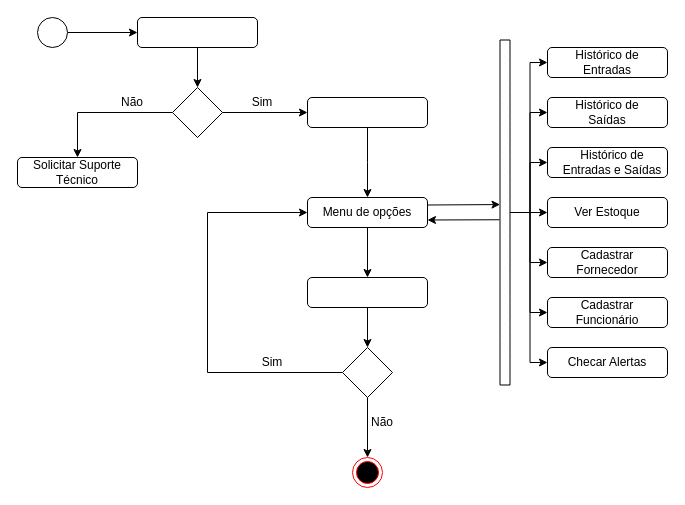
This 685x505 diagram has some shape labels left out. Each missing label, with the centre of its shape:
"Deseja continuar?" goes at point 367,292.
"Efetuar Login" goes at point 367,112.
"Possui cadastro ?" goes at point 197,32.
